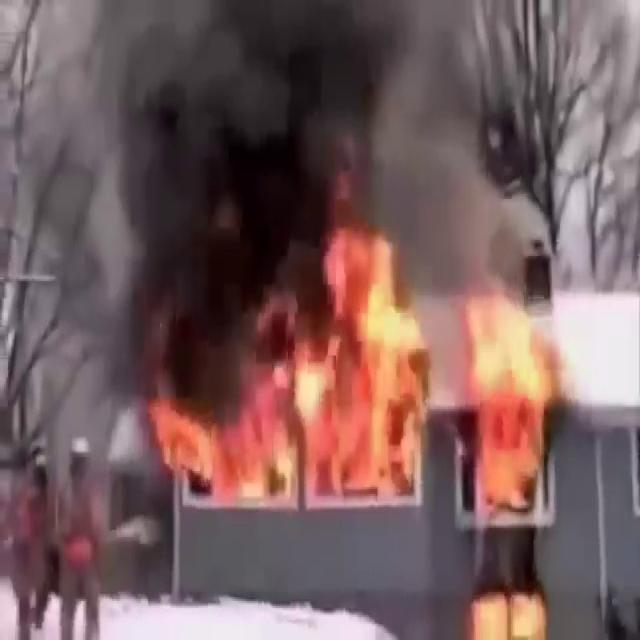Fire: (147, 215, 440, 518), (462, 262, 560, 506)
Smoke: (59, 1, 534, 323)
